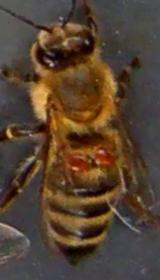varroa_mite: (90, 143, 118, 169), (58, 148, 92, 169)
